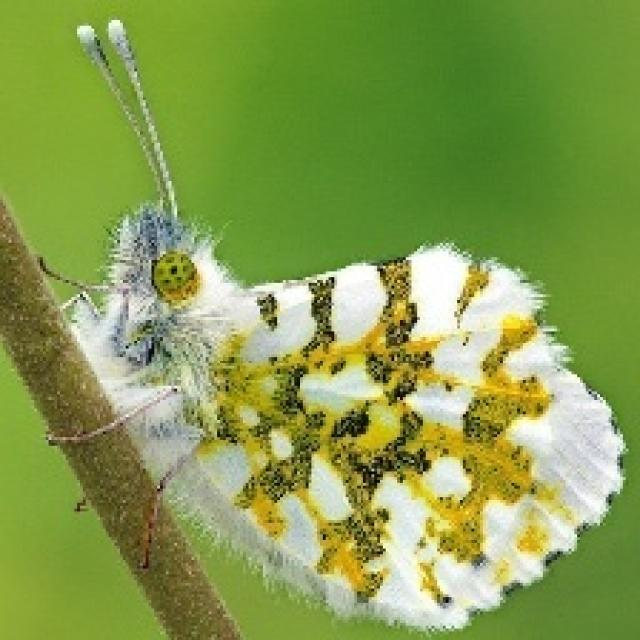butterfly: (31, 15, 626, 634)
